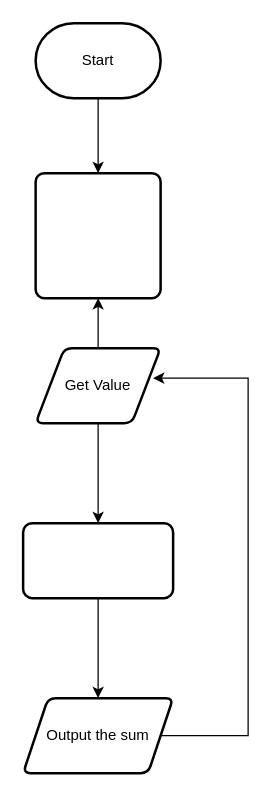
Image size: 280x795. Some labels were removed from this diagram. Here are the shapes that lost their labels. From the top down, the box of each, then its label:
(34, 171, 161, 299): Sum = 0
(21, 521, 174, 599): Sum = sum + value
